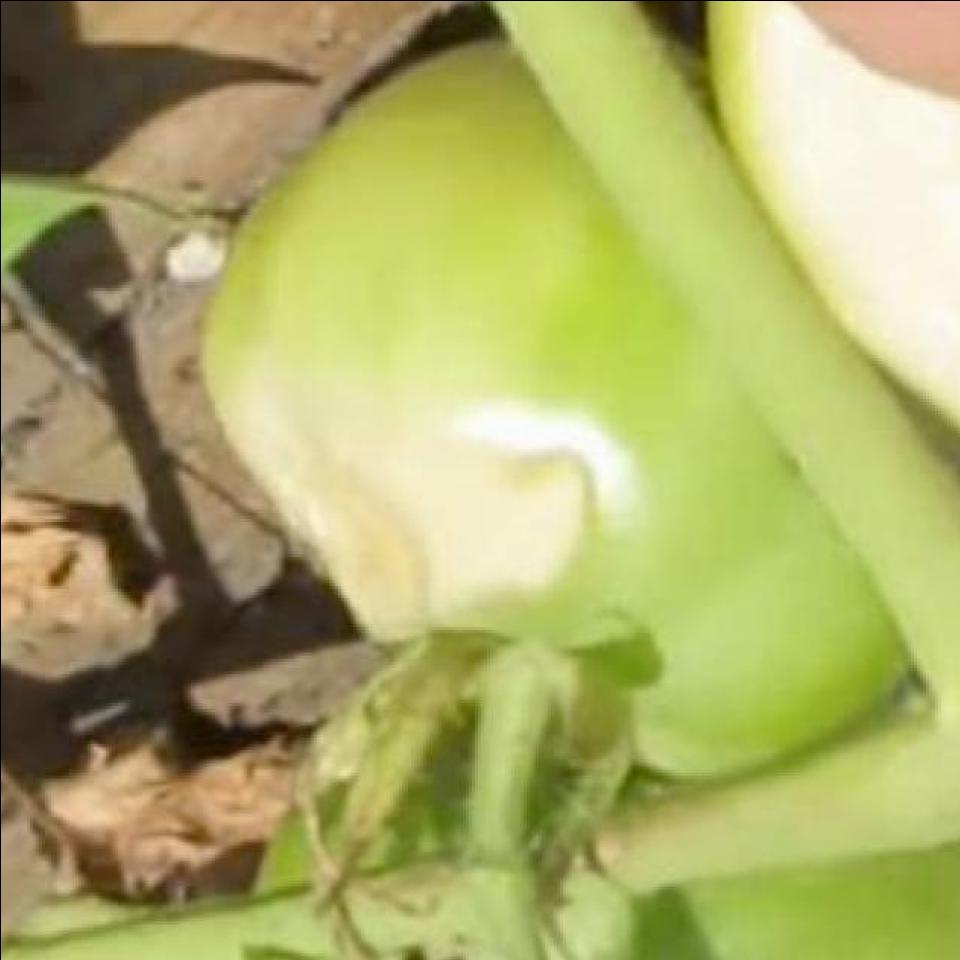Sunscald: (195, 362, 607, 656)
